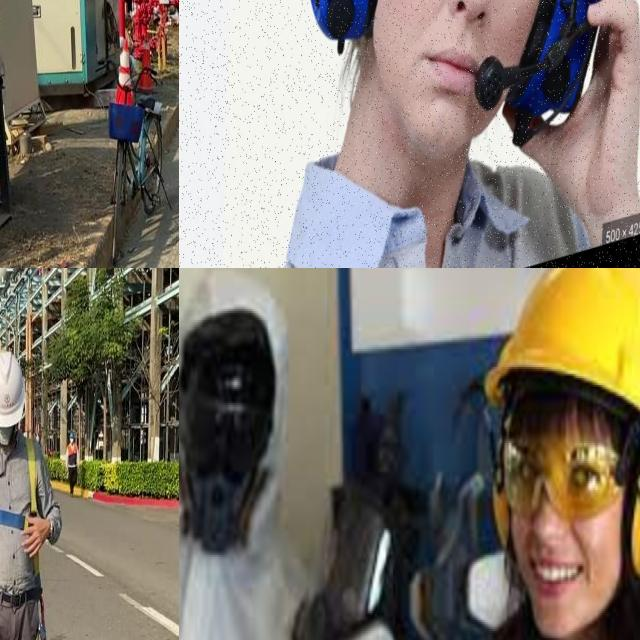Ear-protection: (483, 268, 640, 634)
Harness: (0, 439, 39, 530), (37, 588, 48, 640)
face_nomask: (374, 0, 542, 162)
hand_noglove: (525, 0, 640, 246)
